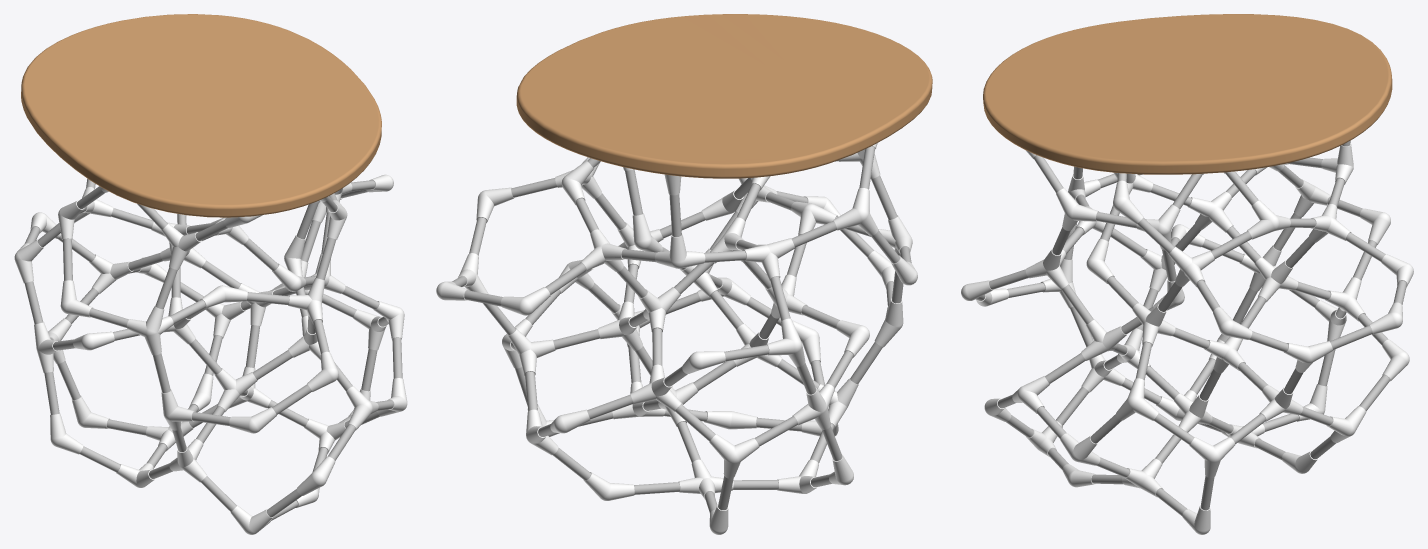
The model's file is chair.glb.
3 views of the same model, side by side, from view 1: azimuth 30°, elevation 25°; view 2: azimuth 150°, elevation 25°; view 3: azimuth 270°, elevation 25° (orthographic). The views are drawn at different scales.
Parts seen in each view (by area): view 1: networkchair_joint v4; view 2: networkchair_joint v4; view 3: networkchair_joint v4.
Boxes of the visible parts, x1,y1,x2,y2 form: networkchair_joint v4: (14, 14, 407, 534); networkchair_joint v4: (436, 14, 932, 534); networkchair_joint v4: (961, 14, 1413, 534).
Size of the model in its own units: 0.5958 by 0.5911 by 0.6243.
